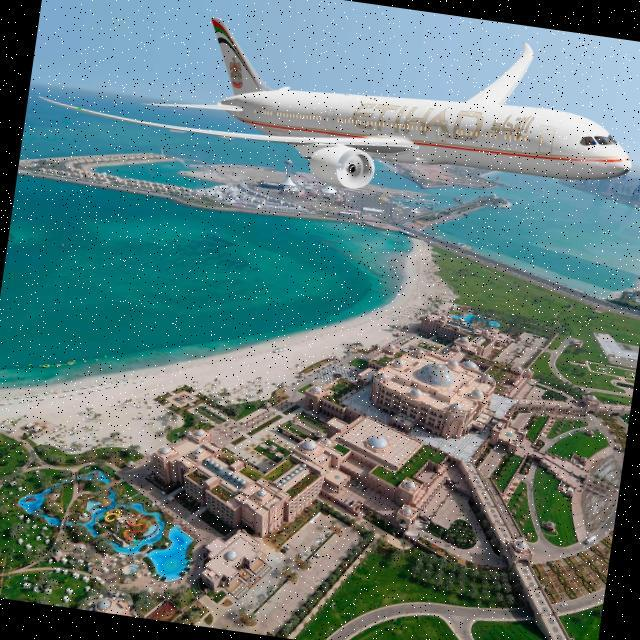Etihad Airways: (351, 91, 536, 154)
